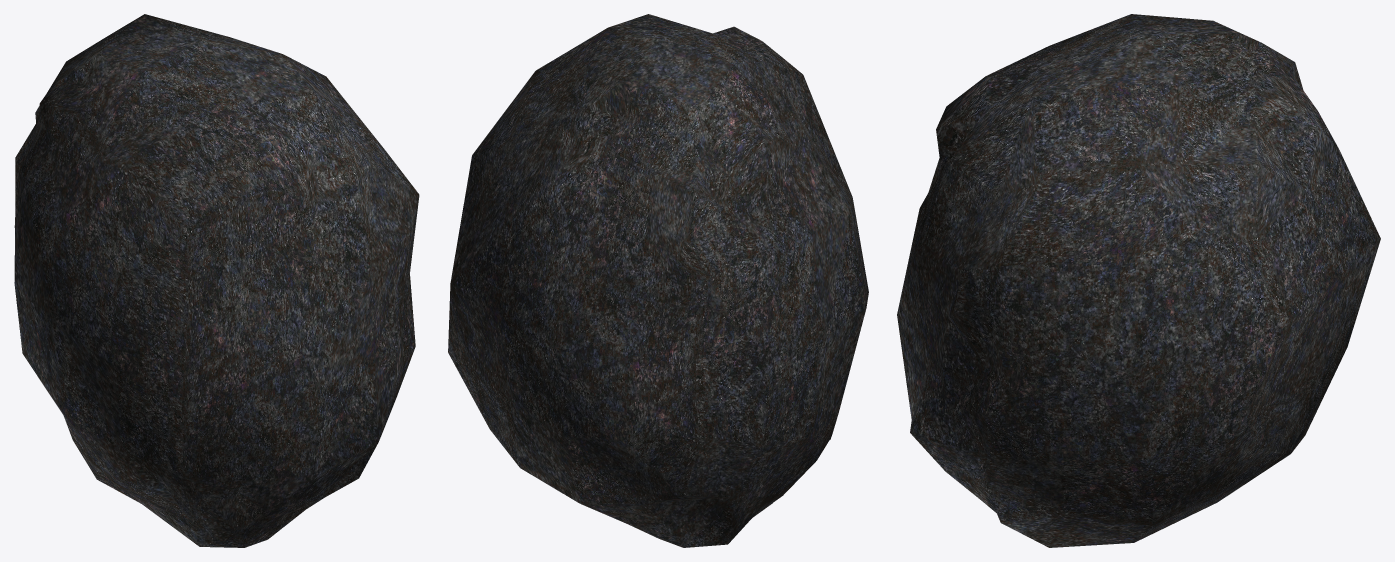
Rendered from asteroid_metal_small_s02_l0.fbx.
3 renders of one model, left to right at view 1: azimuth 30°, elevation 25°; view 2: azimuth 150°, elevation 25°; view 3: azimuth 270°, elevation 25°, orthographic. The views are drawn at different scales.
Visible parts, largest first — view 1: mesh_node; view 2: mesh_node; view 3: mesh_node.
Boxes of the visible parts, x1,y1,x2,y2 form: mesh_node: [14, 14, 419, 547]; mesh_node: [448, 14, 868, 547]; mesh_node: [897, 14, 1380, 547].
Size of the model in its own units: 23.53 by 32.42 by 28.31.
